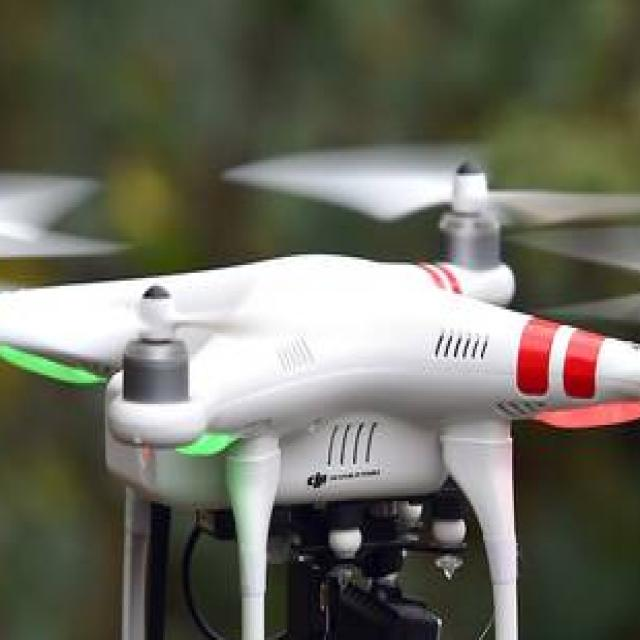drone: (0, 107, 640, 554)
